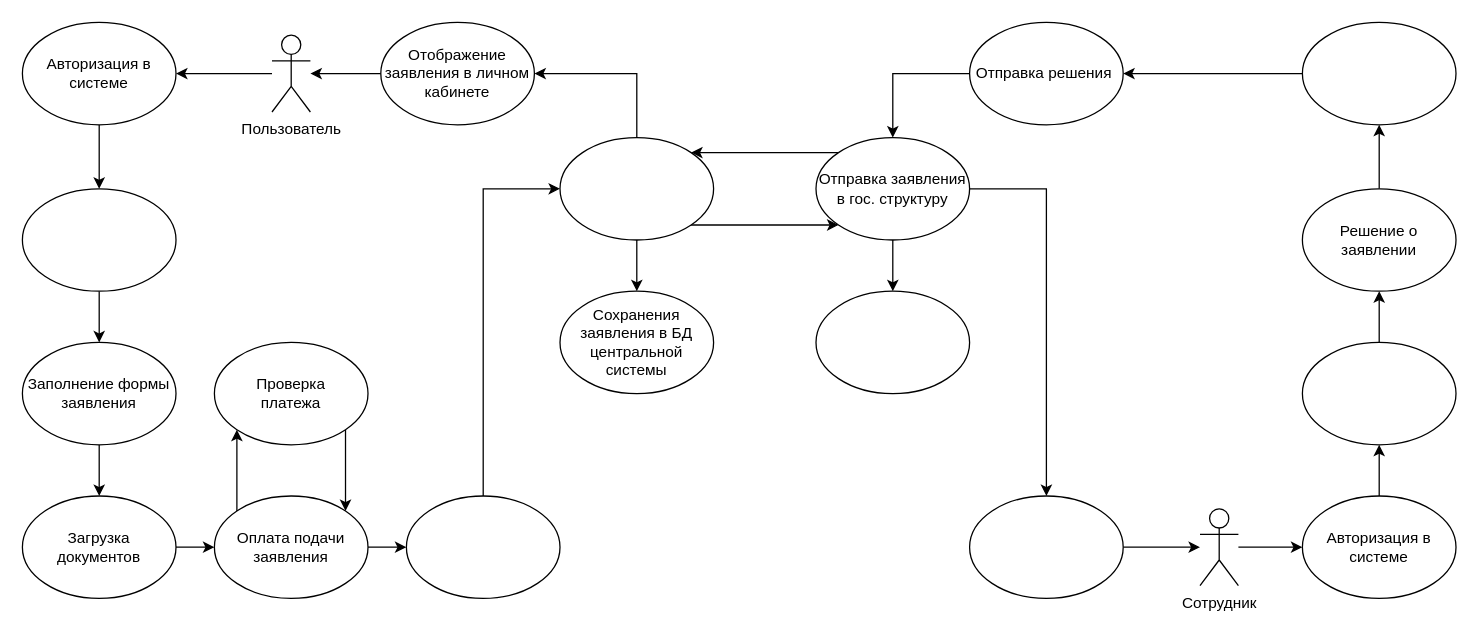
This 1478x635 diagram has some shape labels left out. The box of each missing label's shape, as (x1, y1, x2, y2) in pixels:
Анализ и просмотр заявления: (1301, 341, 1456, 445)
Отображение заявления в системе: (968, 495, 1123, 598)
Отправка заявления в центральную систему: (559, 136, 714, 240)
Подпись документа о решении: (1301, 21, 1456, 125)
Регистрация заявления в личном кабинете: (405, 495, 560, 598)
Создание заявление: (21, 188, 176, 291)
Сохранения заявления в БД гос. структуры: (815, 290, 970, 394)
